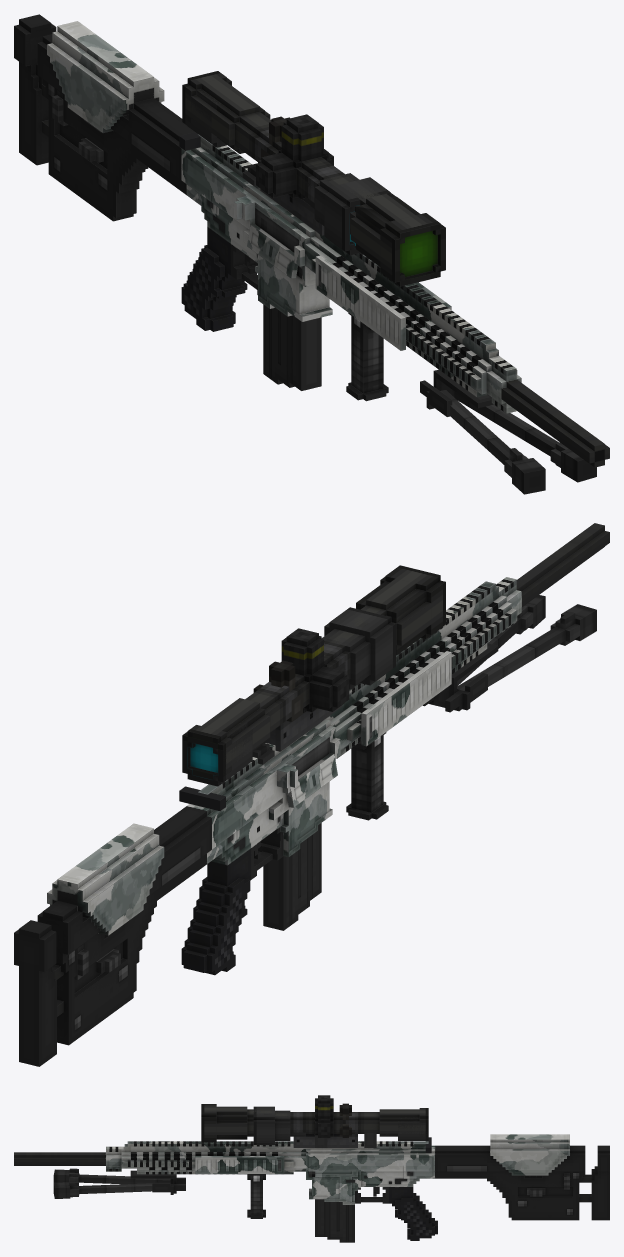
The model's file is RD_SR25_SNOW.glb.
3 renders of one model, top to bottom at view 1: azimuth 30°, elevation 25°; view 2: azimuth 150°, elevation 25°; view 3: azimuth 270°, elevation 25°, orthographic. The views are drawn at different scales.
Visible parts, largest first — view 1: SR25, SCOPE_LEUPOLD, SCOPE_SCHMIDT_BENDER, SR25_CLIP, DIPOD2_LEG1, DIPOD2_LEG2, GRIP1, DIPOD2; view 2: SR25, SCOPE_LEUPOLD, SCOPE_SCHMIDT_BENDER, SR25_CLIP, DIPOD2_LEG1, GRIP1, DIPOD2, DIPOD2_LEG2, SR25_BOLT; view 3: SR25, SCOPE_LEUPOLD, SCOPE_SCHMIDT_BENDER, SR25_CLIP, DIPOD2_LEG2, DIPOD2_LEG1, DIPOD2, GRIP1.
Boxes of the visible parts, bbox=[...] form: SR25: bbox=[14, 14, 609, 467]; SCOPE_LEUPOLD: bbox=[182, 71, 445, 286]; SCOPE_SCHMIDT_BENDER: bbox=[182, 90, 395, 255]; SR25_CLIP: bbox=[263, 304, 321, 390]; DIPOD2_LEG1: bbox=[440, 390, 545, 494]; DIPOD2_LEG2: bbox=[454, 391, 596, 482]; GRIP1: bbox=[346, 313, 388, 401]; DIPOD2: bbox=[420, 369, 493, 416]; SR25: bbox=[14, 523, 609, 1066]; SCOPE_LEUPOLD: bbox=[182, 565, 445, 779]; SCOPE_SCHMIDT_BENDER: bbox=[182, 607, 395, 786]; SR25_CLIP: bbox=[263, 823, 321, 930]; DIPOD2_LEG1: bbox=[457, 604, 596, 691]; GRIP1: bbox=[346, 732, 388, 820]; DIPOD2: bbox=[423, 643, 498, 712]; DIPOD2_LEG2: bbox=[457, 595, 545, 686]; SR25_BOLT: bbox=[179, 786, 225, 810]; SR25: bbox=[14, 1134, 609, 1240]; SCOPE_LEUPOLD: bbox=[201, 1095, 428, 1147]; SCOPE_SCHMIDT_BENDER: bbox=[253, 1103, 428, 1147]; SR25_CLIP: bbox=[315, 1199, 354, 1242]; DIPOD2_LEG2: bbox=[53, 1181, 152, 1198]; DIPOD2_LEG1: bbox=[53, 1168, 170, 1184]; DIPOD2: bbox=[130, 1170, 185, 1194]; GRIP1: bbox=[247, 1174, 265, 1218].
Size of the model in its own units: 0.1489 by 0.502 by 1.91.
Materials: 5 (5 with a texture image).
